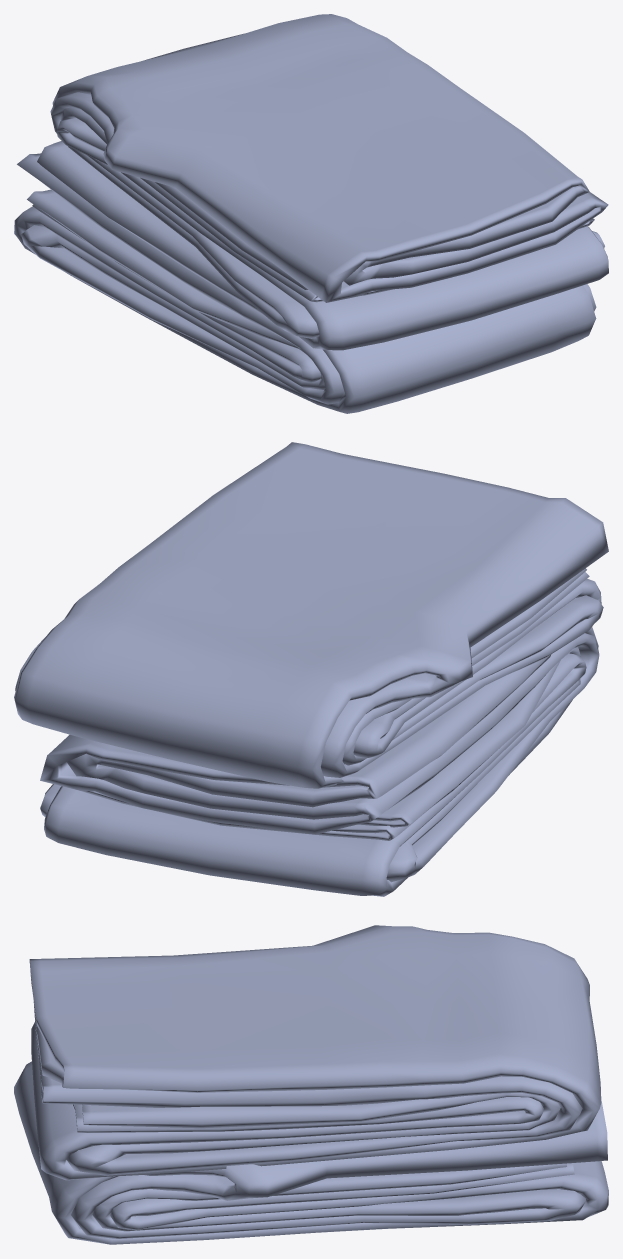
The model's file is Folded_Pant19.fbx.
The picture shows the model from 3 angles, top to bottom: view 1: azimuth 30°, elevation 25°; view 2: azimuth 150°, elevation 25°; view 3: azimuth 270°, elevation 25°; orthographic projection. The views are drawn at different scales.
Parts seen in each view (by area): view 1: Folded_Pant19; view 2: Folded_Pant19; view 3: Folded_Pant19.
Part boxes in pixels (x1=…): Folded_Pant19: x1=14, y1=14, x2=608, y2=413; Folded_Pant19: x1=14, y1=442, x2=608, y2=896; Folded_Pant19: x1=14, y1=925, x2=608, y2=1244.
Size of the model in its own units: 25.78 by 11.41 by 35.19.
Materials: 1 (1 with a texture image).
